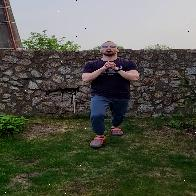lunges: (70, 29, 153, 152)
